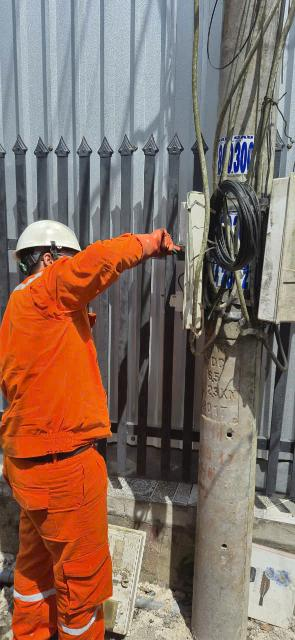gloves: (123, 211, 192, 273)
helmet: (2, 214, 92, 258)
